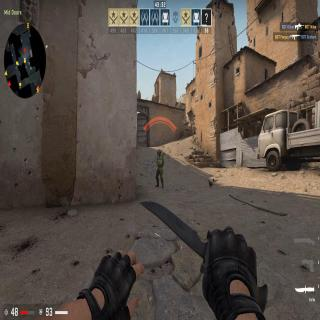CT-Body: (155, 148, 165, 188)
CT-Head: (157, 149, 161, 156)
